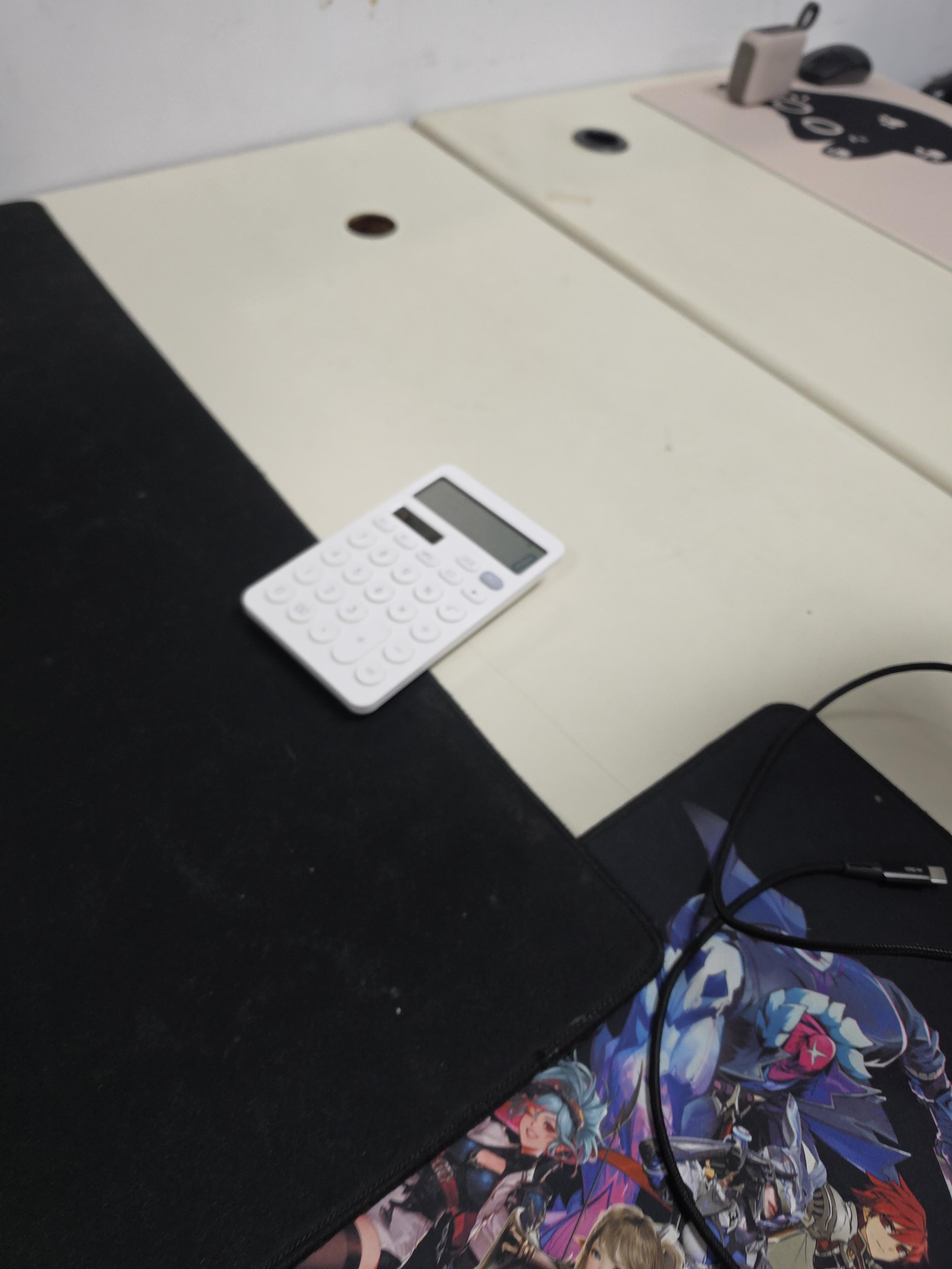calculator: (240, 464, 567, 716)
